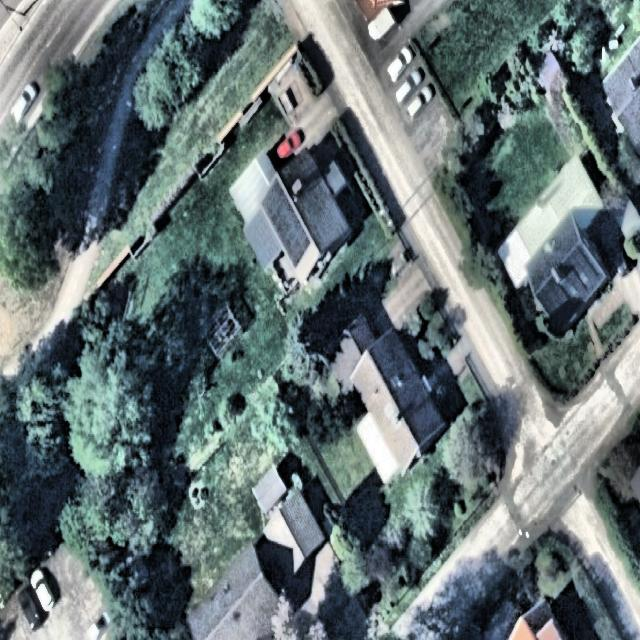roof_pv: (258, 174, 311, 270)
